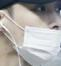mask_weared_incorrect: (2, 2, 61, 66)
